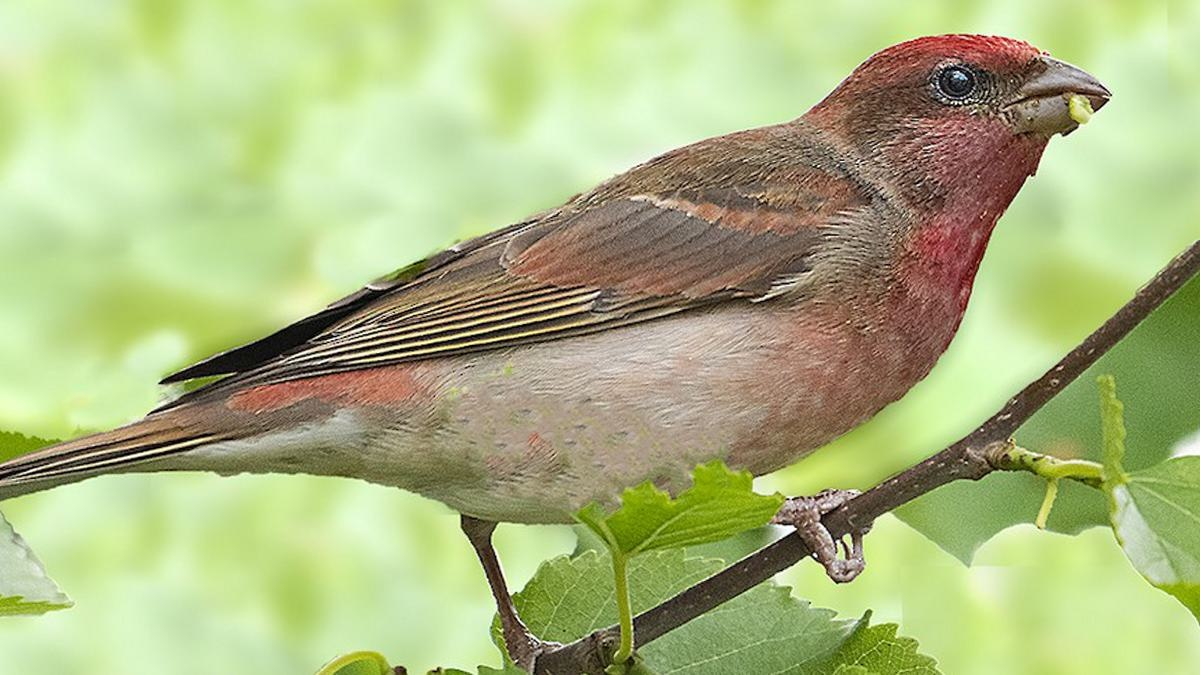rosefinch: (299, 22, 1118, 525)
